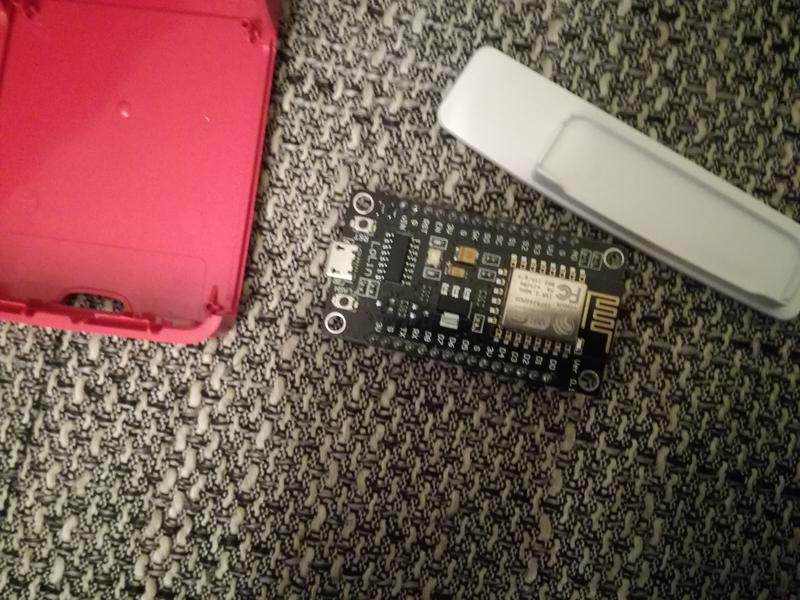ESP8266: (317, 184, 631, 403)
